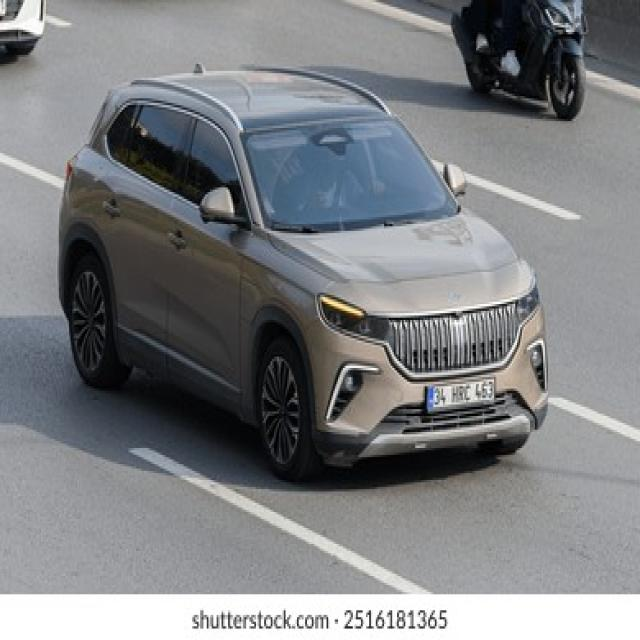togg: (443, 282, 466, 312)
